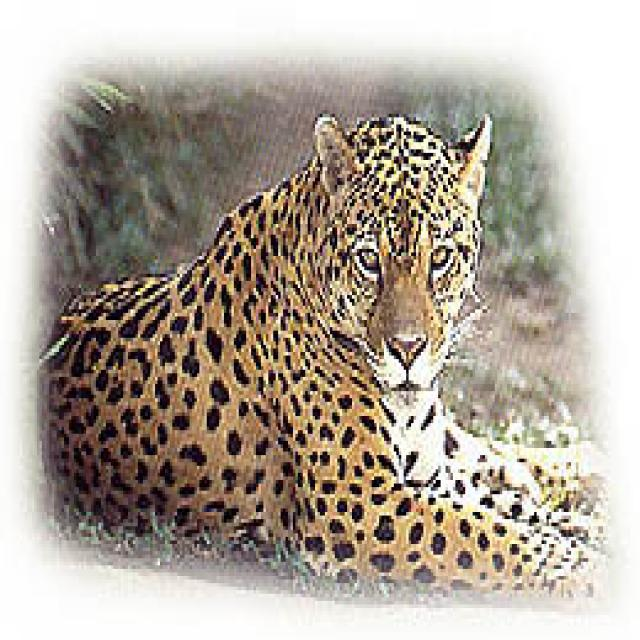Leopard: (24, 99, 610, 601)
